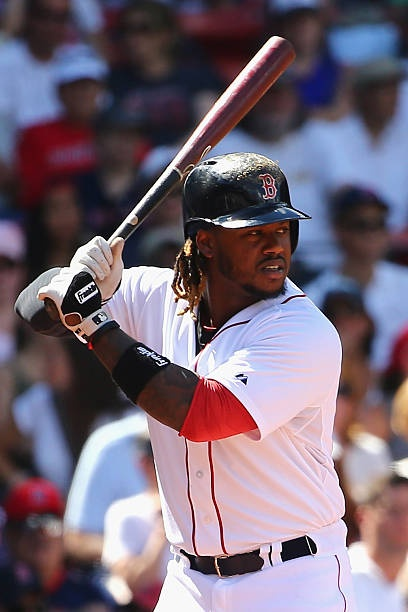bita: (94, 37, 300, 268)
